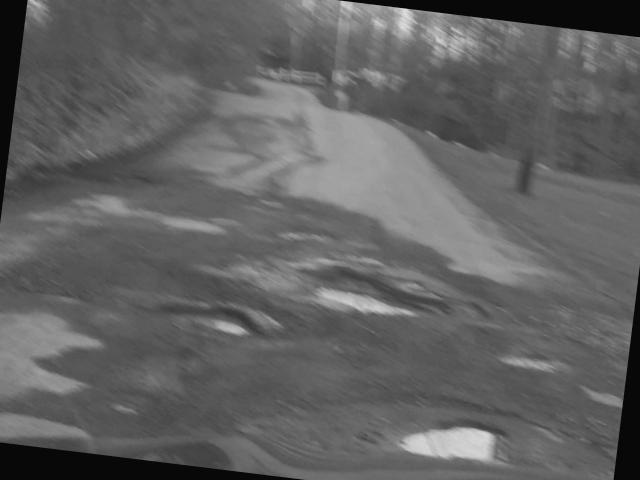Pothole: (60, 386, 271, 474), (146, 280, 294, 377), (378, 382, 523, 480), (294, 250, 447, 341), (491, 336, 575, 382), (580, 369, 626, 428)
